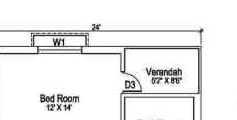door: (115, 68, 151, 93)
window: (34, 42, 85, 61)
